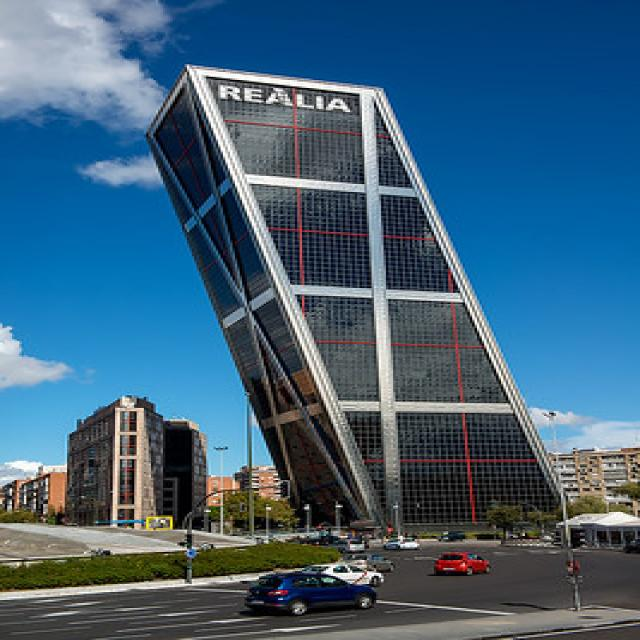Normal_building: (134, 59, 576, 565), (60, 393, 213, 532)
